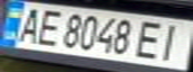0: (75, 12, 100, 52)
4: (93, 15, 121, 54)
8: (112, 16, 139, 56), (57, 11, 84, 50)
A: (9, 5, 48, 44)
E: (133, 18, 169, 61), (30, 7, 66, 47)
I: (151, 20, 190, 62)
